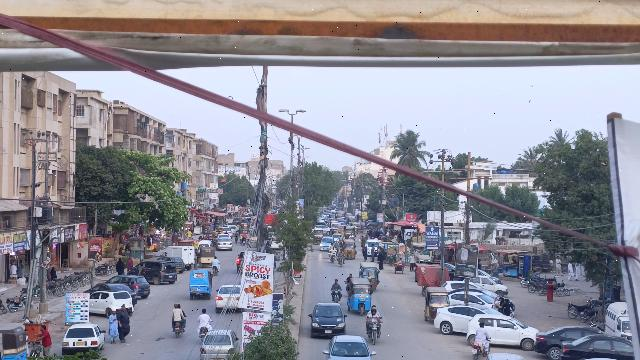Bike: (469, 338, 493, 360), (366, 320, 383, 344), (171, 320, 185, 340), (197, 325, 211, 340), (330, 288, 342, 303), (211, 264, 221, 275)
Car: (465, 312, 536, 348), (535, 323, 600, 357), (432, 302, 501, 334), (556, 334, 633, 360), (305, 301, 349, 338), (61, 323, 106, 355), (322, 334, 377, 360), (199, 329, 240, 360), (131, 257, 176, 285), (88, 290, 134, 317), (110, 273, 152, 298), (215, 283, 241, 311)
Person: (36, 325, 54, 357), (118, 302, 130, 344), (106, 309, 117, 344), (474, 320, 490, 344), (365, 303, 382, 320), (171, 302, 186, 320), (198, 307, 211, 325), (330, 277, 342, 292), (211, 255, 222, 268), (504, 297, 510, 316), (491, 296, 499, 310), (498, 296, 504, 314)
Rickshaw: (421, 285, 450, 324), (347, 278, 373, 315), (187, 268, 214, 300), (359, 260, 380, 294)
Suzuki: (603, 300, 629, 339)
Truck: (164, 244, 195, 268)
